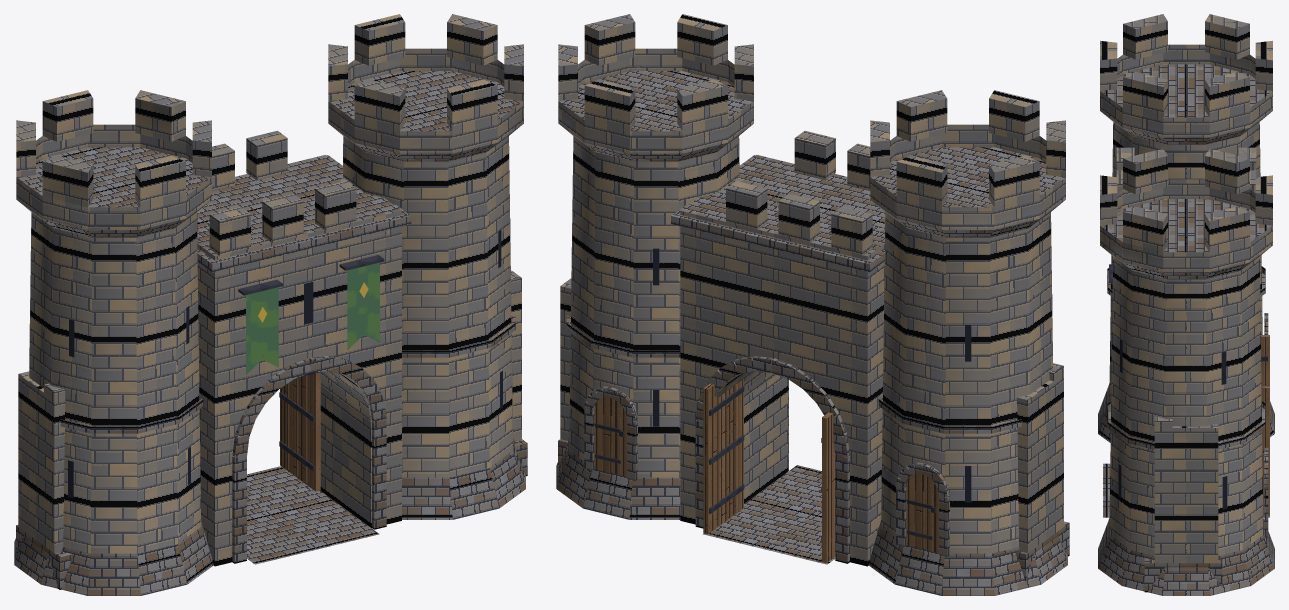
Rendered from town_gate_2.glb.
3 views of the same model, side by side, from view 1: azimuth 30°, elevation 25°; view 2: azimuth 150°, elevation 25°; view 3: azimuth 270°, elevation 25° (orthographic). The views are drawn at different scales.
Visible parts, largest first — view 1: town_gate_3; view 2: town_gate_3; view 3: town_gate_3.
Boxes of the visible parts, x1,y1,x2,y2 form: town_gate_3: (14, 14, 527, 595); town_gate_3: (556, 14, 1069, 595); town_gate_3: (1098, 14, 1274, 595).
Size of the model in its own units: 12.44 by 10.35 by 4.44.
7 materials, 7 textured.
